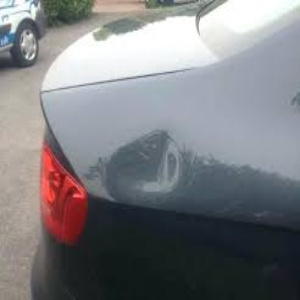bumper: (85, 126, 189, 211)
